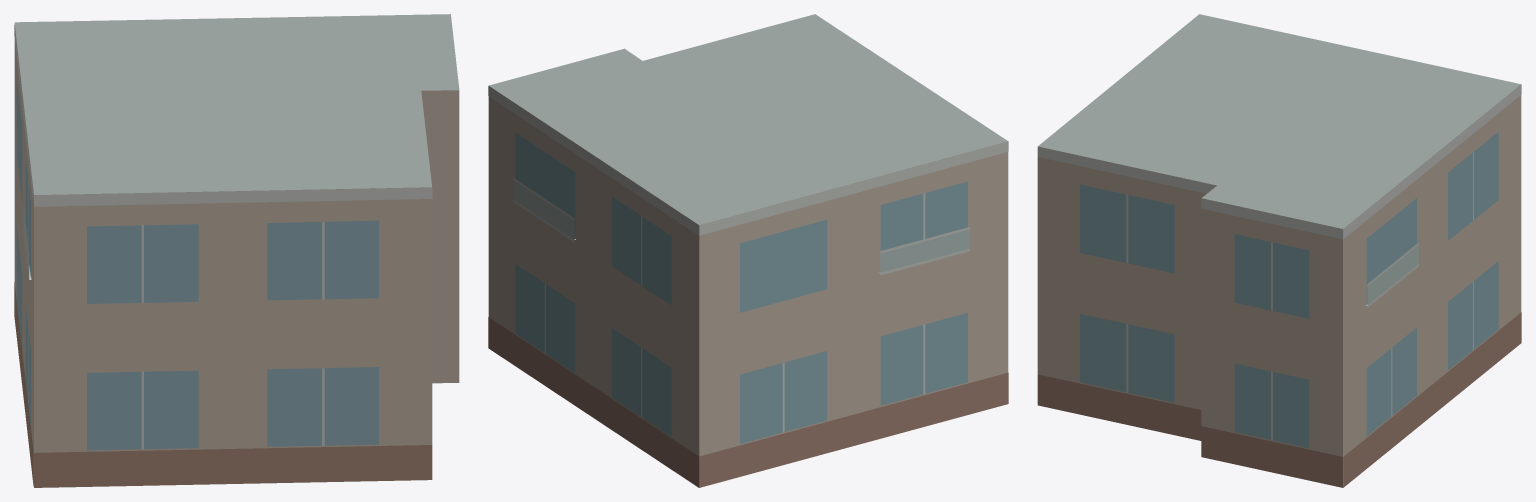
The model's file is survey-upis-32693721.glb.
3 renders of one model, left to right at view 1: azimuth 30°, elevation 25°; view 2: azimuth 150°, elevation 25°; view 3: azimuth 270°, elevation 25°, orthographic. The views are drawn at different scales.
Parts seen in each view (by area): view 1: survey-upis-32693721.tmp; view 2: survey-upis-32693721.tmp; view 3: survey-upis-32693721.tmp.
Part boxes in pixels (<box>): survey-upis-32693721.tmp: <box>14,14,459,487</box>; survey-upis-32693721.tmp: <box>488,14,1008,487</box>; survey-upis-32693721.tmp: <box>1037,14,1521,487</box>.
Size of the model in its own units: 10.88 by 6.1 by 10.34.
